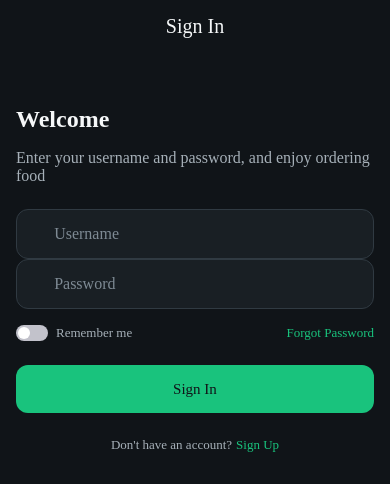
it: SigninScreen › shows the service error message when login fails
This screenshot has width=390, height=484.
In the field labelled "Username": (208, 234) [54,210,361,258], type "alice"
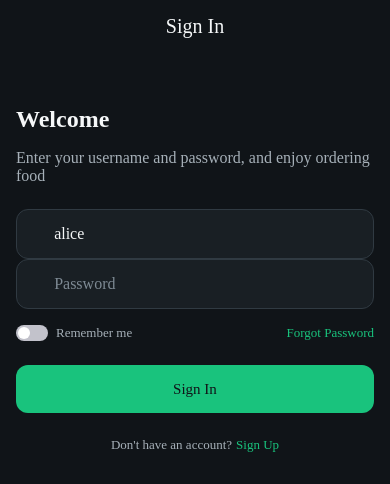
In the password field labelled "Password": (195, 284) [54,260,336,308], type "wrong"
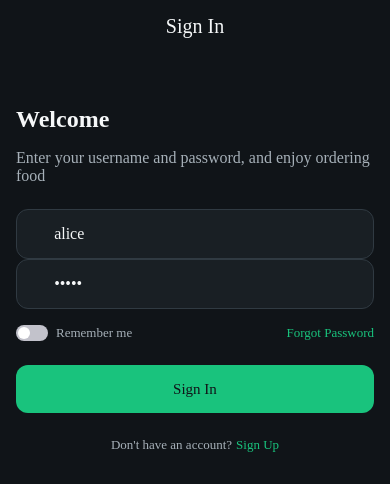
Click the button "Sign In": (195, 389) [16,365,374,413]
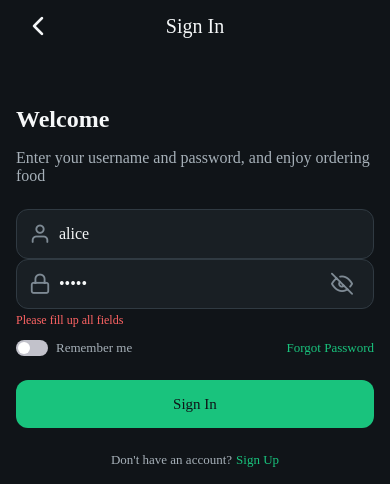
Expected: the text "Please fill up all fields" is shown, [16,313,123,327]
